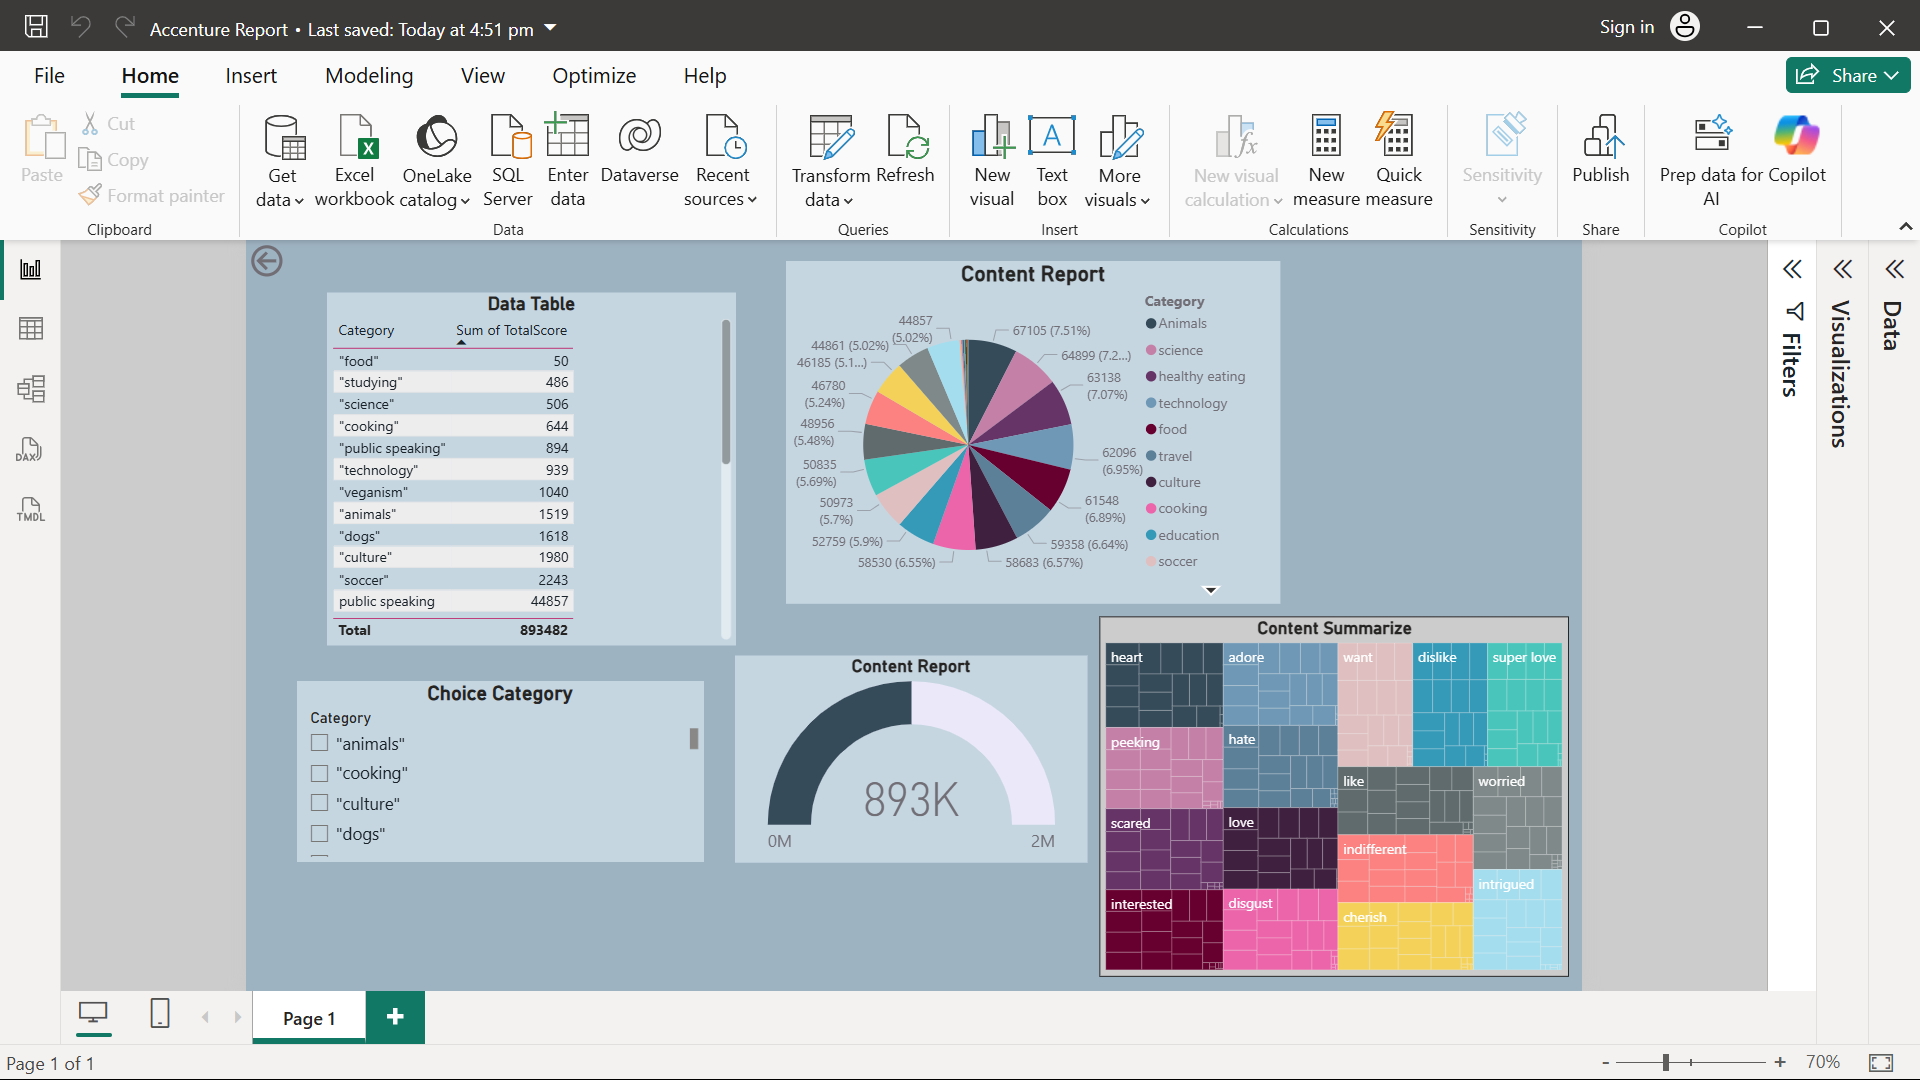

This screenshot's page, from the dashboard's own definition file:
{"tool":"powerbi","page":{"name":"Page 1","canvas":[1280,720],"ordinal":0},"visuals":[{"type":"tableEx","title":"Data Table","fields":{"Values":["CategoryScores.Category","Sum(CategoryScores.TotalScore)"]},"box":[77.2,50,392.2,337.7],"z":0},{"type":"pieChart","title":"Content Report","fields":{"Category":["CategoryScores.Category"],"Y":["Sum(CategoryScores.TotalScore)"]},"box":[517.9,19.7,473.9,328.6],"z":1000},{"type":"slicer","title":"Choice Category","fields":{"Values":["CategoryScores.Category"]},"box":[49.3,423.1,389.7,173.4],"z":2000},{"type":"gauge","title":"Content Report","fields":{"Y":["Sum(CategoryScores.TotalScore)"]},"box":[469.4,398.2,337.7,198.4],"z":3000},{"type":"actionButton","box":[0,0,100,40],"z":3002},{"type":"treemap","title":"Content Summarize","fields":{"Values":["CountNonNull(Merge1.ReactionTypes.Sentiment)"],"Group":["Merge1.Reactions.Type"],"Details":["Merge1.Category"]},"box":[817.7,360.4,449.7,345.2],"z":3003}]}

Visuals, with their boxes on the page's 1280x720 design canvas (x1, y1, x2, y2). These are canvas units, not pixel positions in the 1920x1080 screenshot, which may show the page scaled, cropped or inside an application window:
"Data Table" tableEx: x1=77 y1=50 x2=469 y2=388
"Content Report" pieChart: x1=518 y1=20 x2=992 y2=348
"Choice Category" slicer: x1=49 y1=423 x2=439 y2=596
"Content Report" gauge: x1=469 y1=398 x2=807 y2=597
actionButton: x1=0 y1=0 x2=100 y2=40
"Content Summarize" treemap: x1=818 y1=360 x2=1267 y2=706
